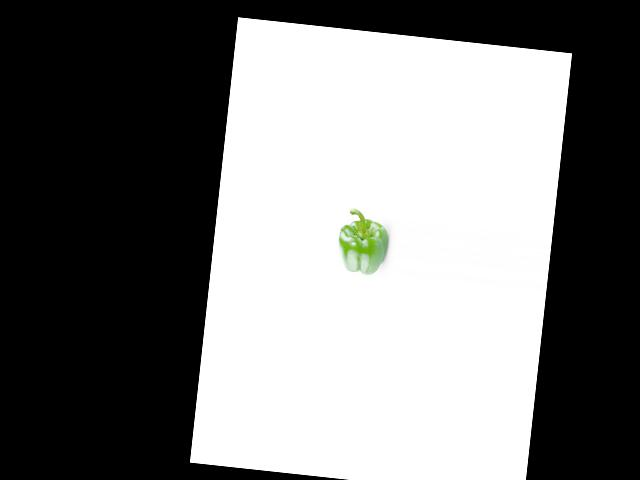bell_pepper: (334, 205, 390, 278)
